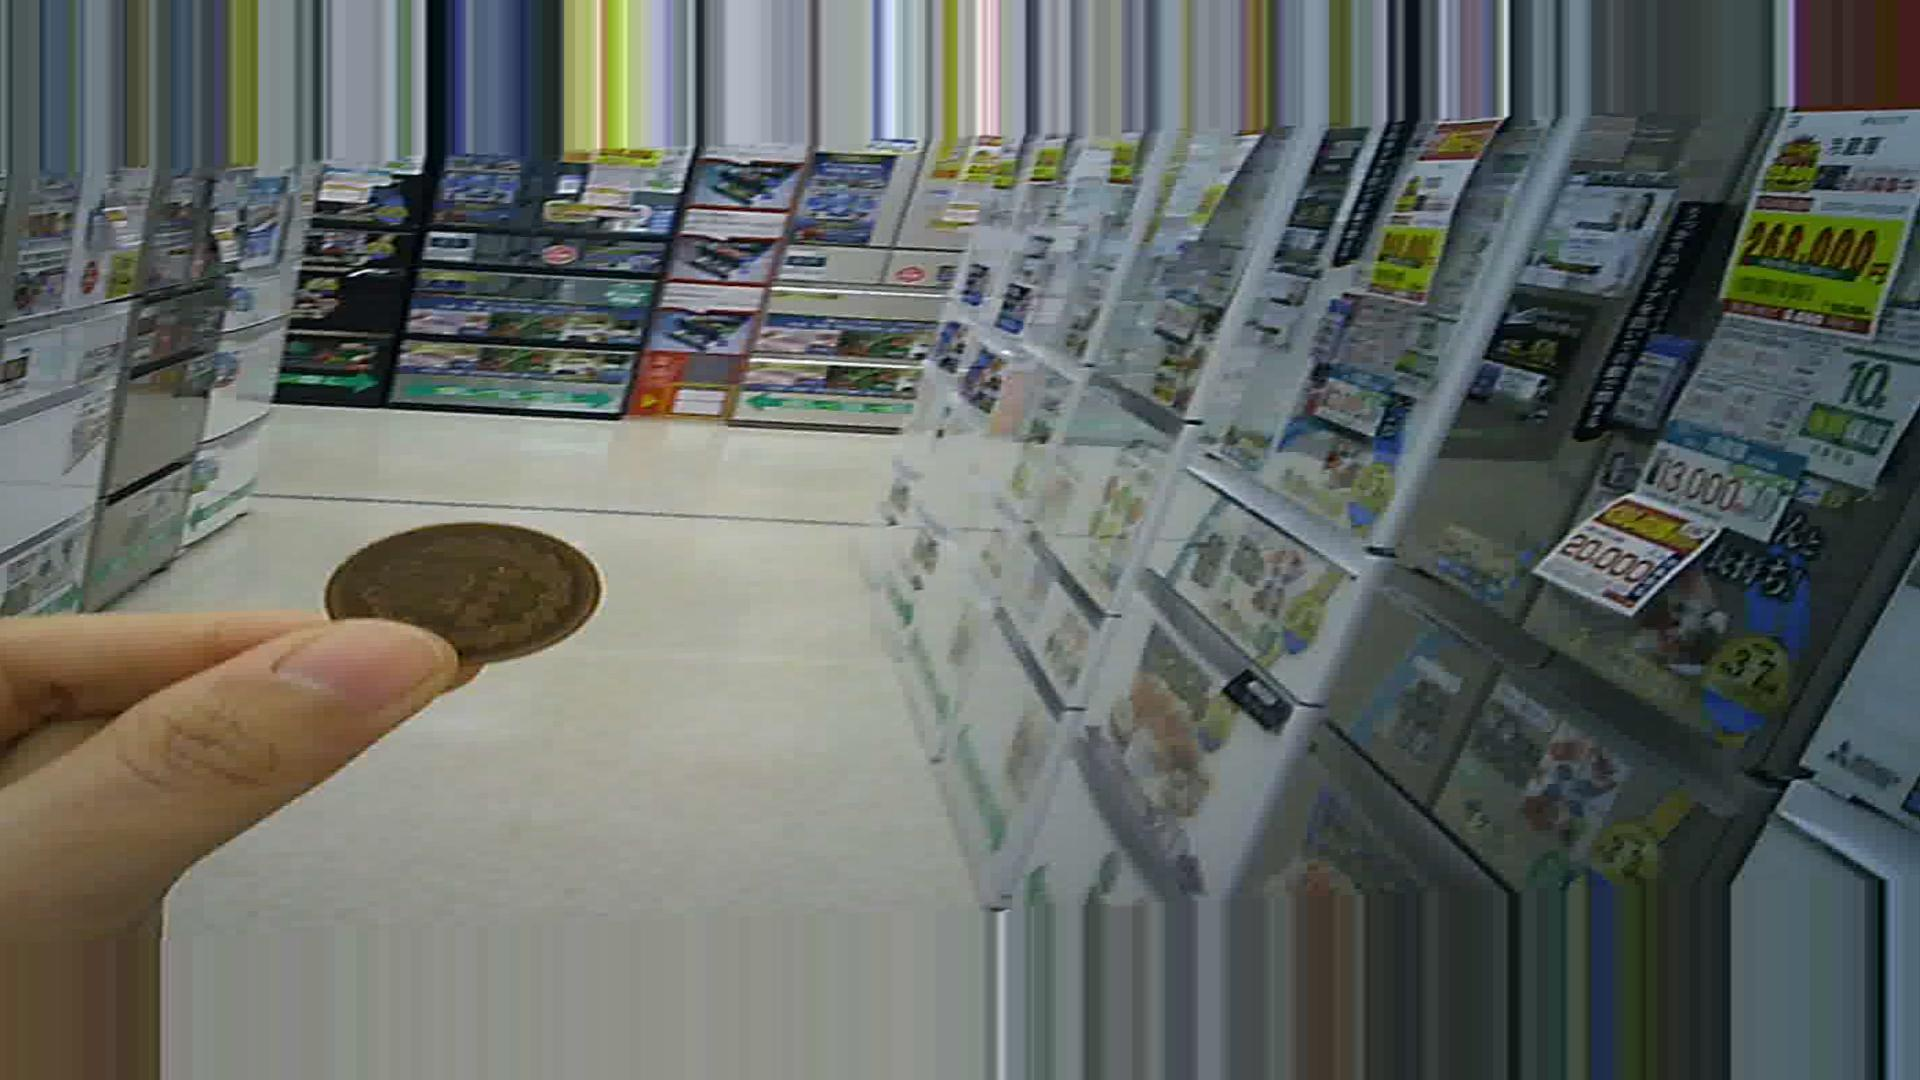10 Yen: (301, 529, 603, 663)
